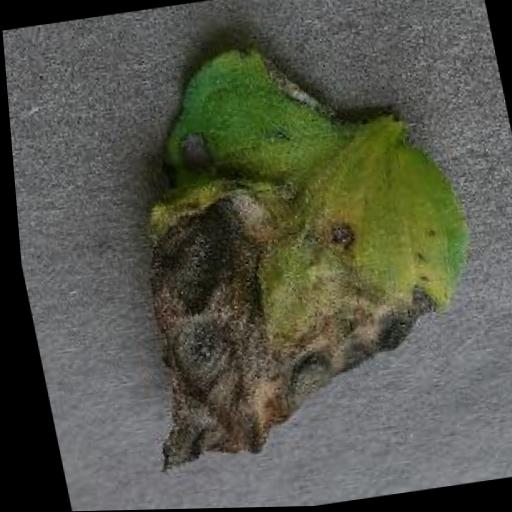Early Blight: (76, 16, 503, 475)
